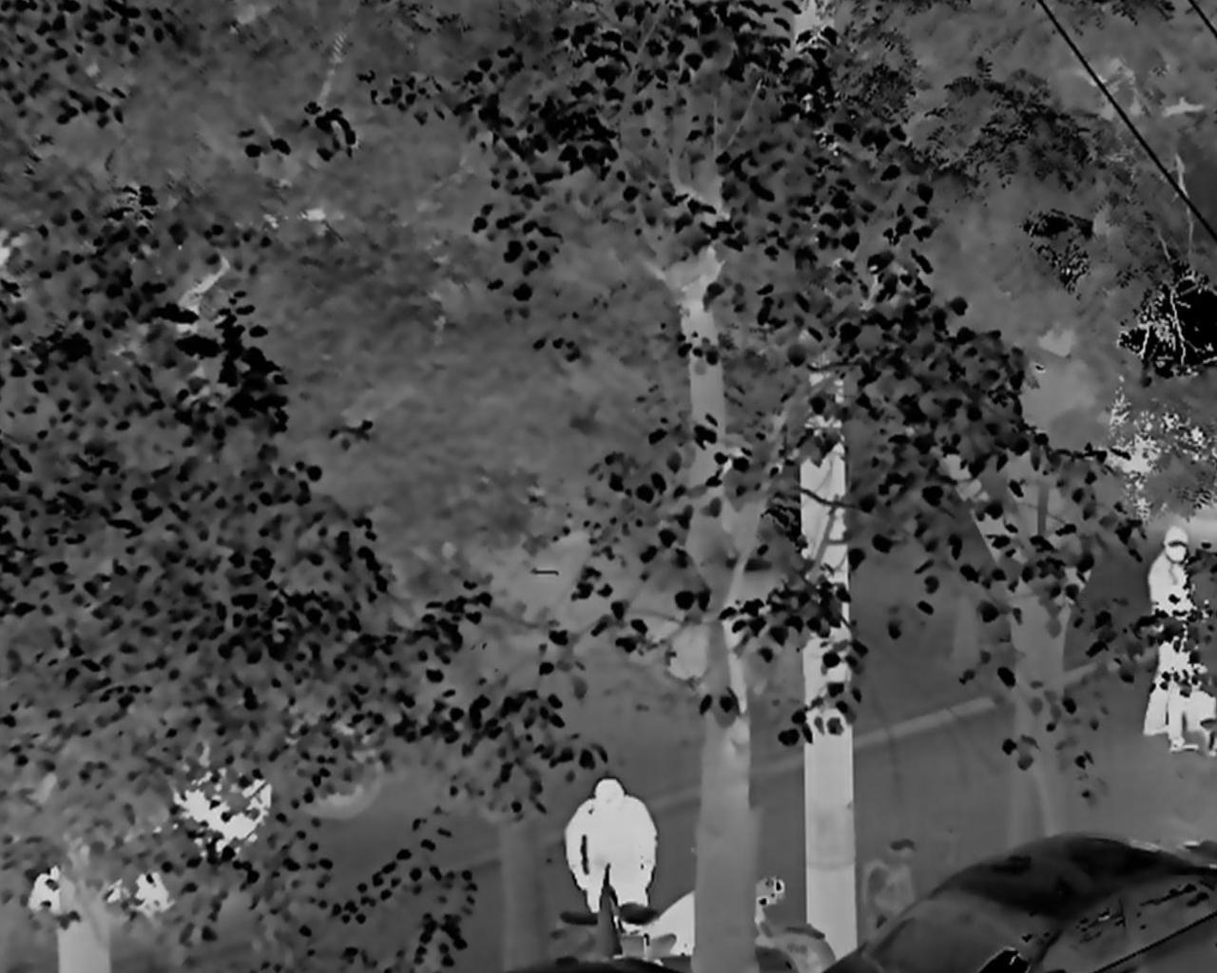person: (563, 777, 659, 913), (1143, 526, 1190, 742), (1166, 598, 1217, 756)
